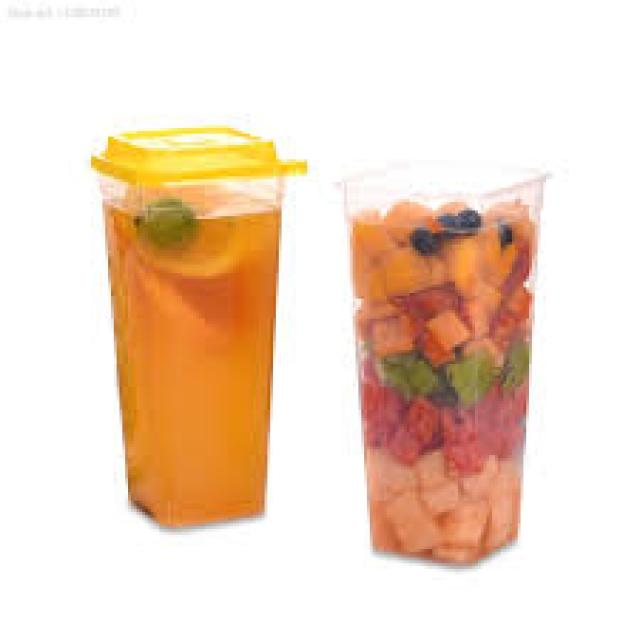bottle: (91, 125, 306, 526), (345, 164, 546, 563)
